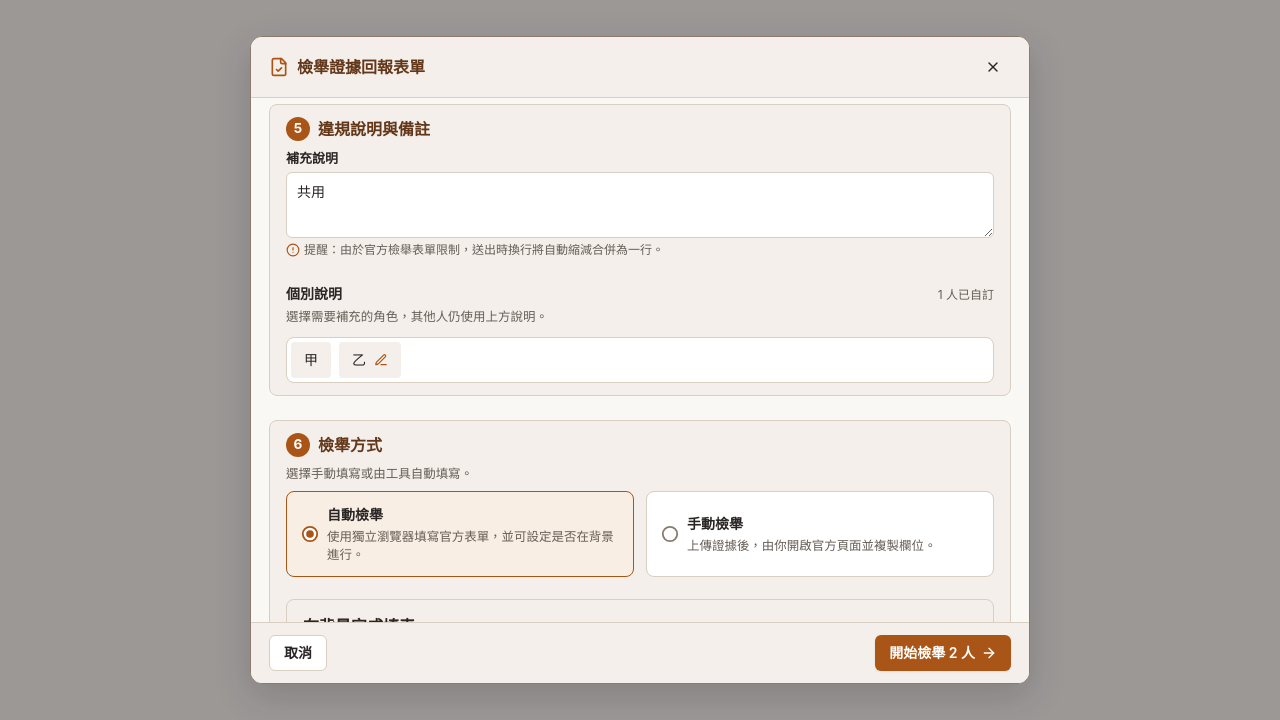
Test: batch report form › restores all batch draft names and notes in order
(page scrolled)
Expected: the text box labelled "補充說明" holds "共用", [287,173,993,237]
Click the button named "編輯 乙 的個別說明".
click(370, 360)  # box [339,342,401,378]
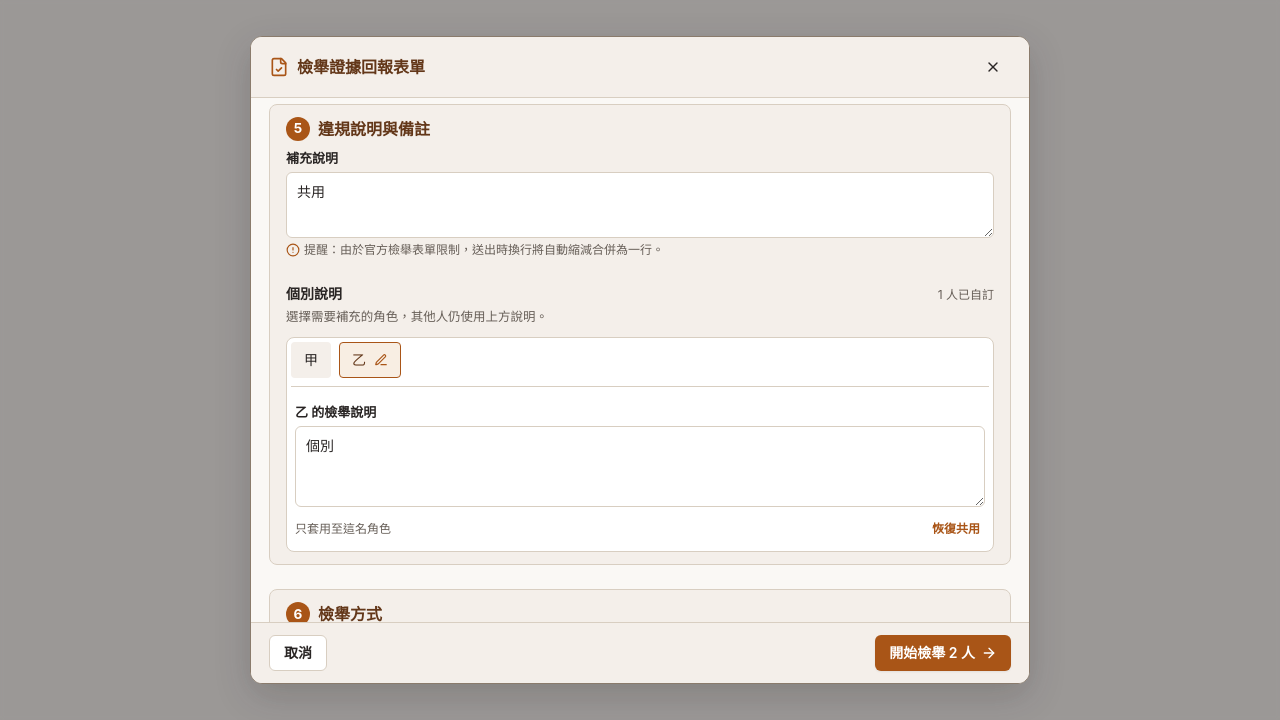
Expected: the text box labelled "乙 的檢舉說明" holds "個別", [296,427,984,506]
Click the button "恢復共用".
click(956, 529)  # box [927,515,985,543]
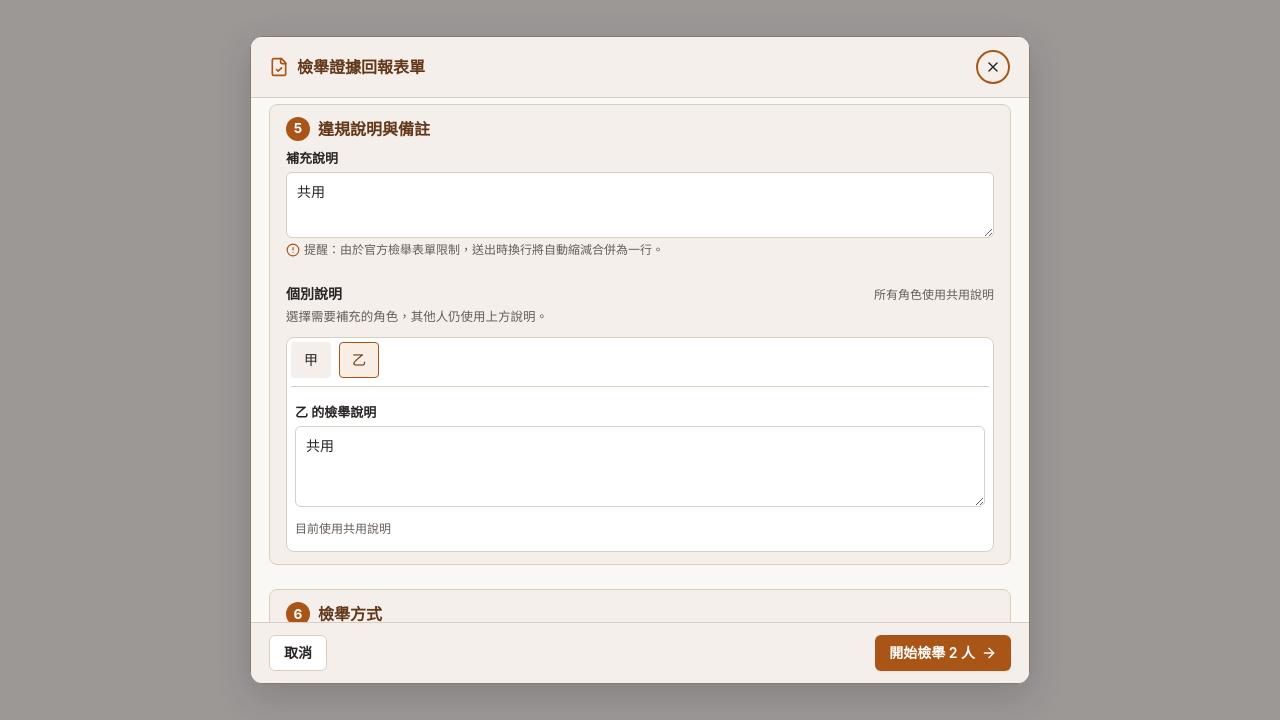
Expected: the text box labelled "乙 的檢舉說明" holds "共用", [296,427,984,506]
